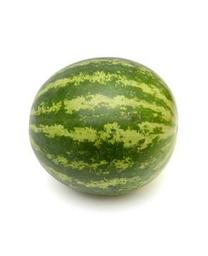watermelon: (27, 55, 180, 198)
